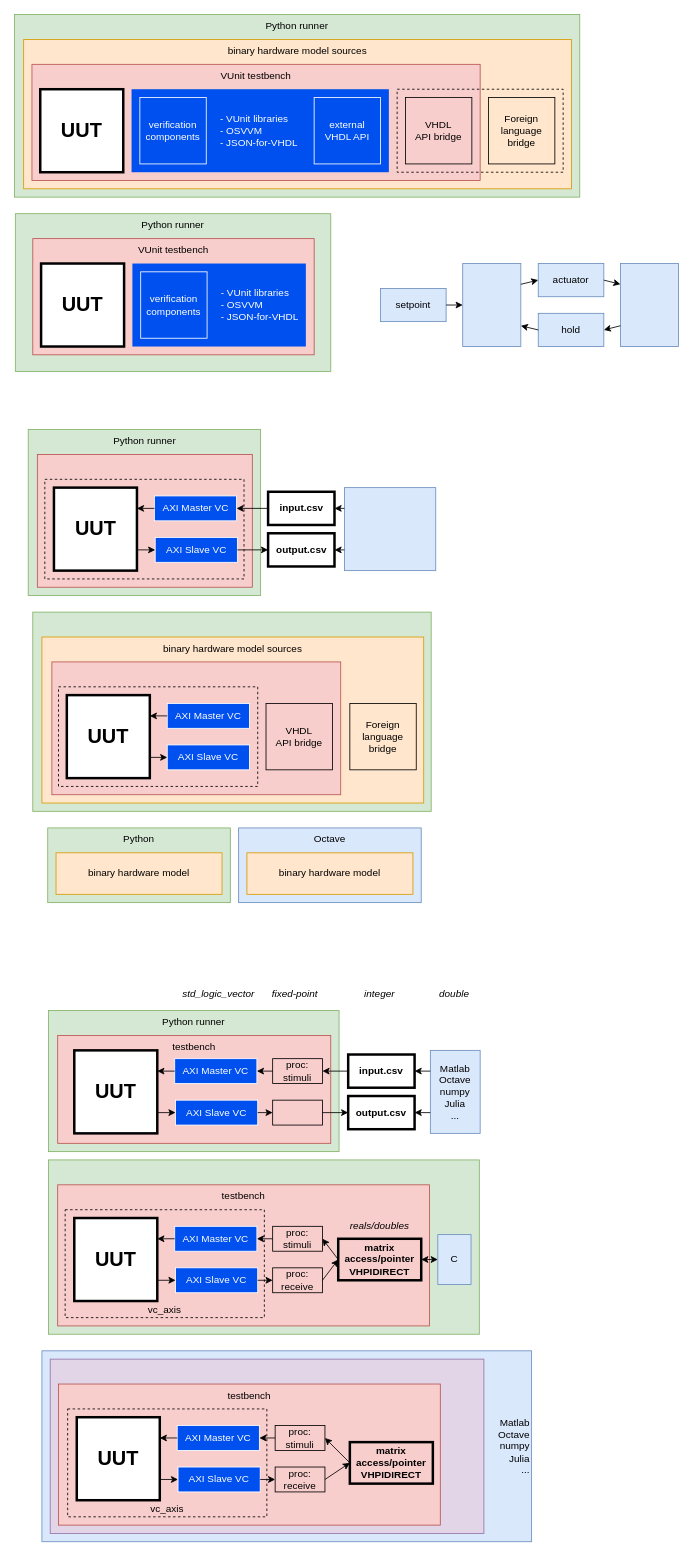
Some shapes in this 693 by 1556 pixel diagram are drawn without their labels. The shapes that lost their labels are listed below. From the top down, each one's box as (x1, y1, x2, y2) in pixels, then its label:
(462, 263, 521, 347): controller
(620, 263, 679, 347): plant
(37, 454, 252, 587): VUnit py testbench
(344, 487, 436, 571): Matlab / Octave
(51, 661, 341, 795): VUnit C testbench
(32, 611, 431, 811): Python runner as a builder
(272, 1099, 322, 1125): proc: save
(48, 1159, 479, 1334): Python builder/runner
(49, 1358, 484, 1533): external resource builder/runner
